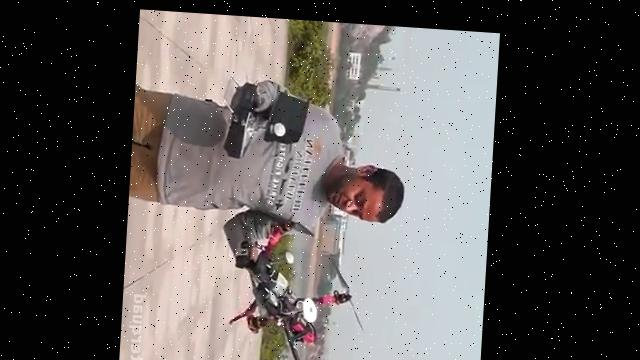drone: (226, 209, 376, 360)
